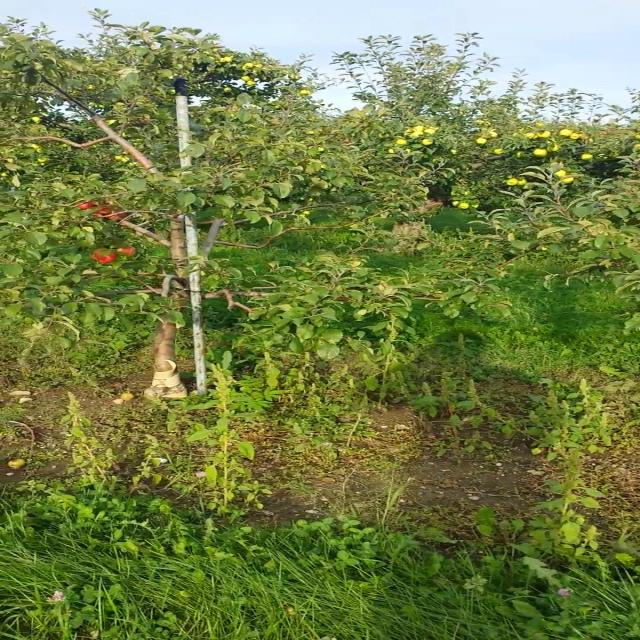apple: (92, 250, 116, 264), (92, 206, 115, 217), (117, 247, 136, 257), (108, 212, 128, 219), (78, 202, 92, 210)
